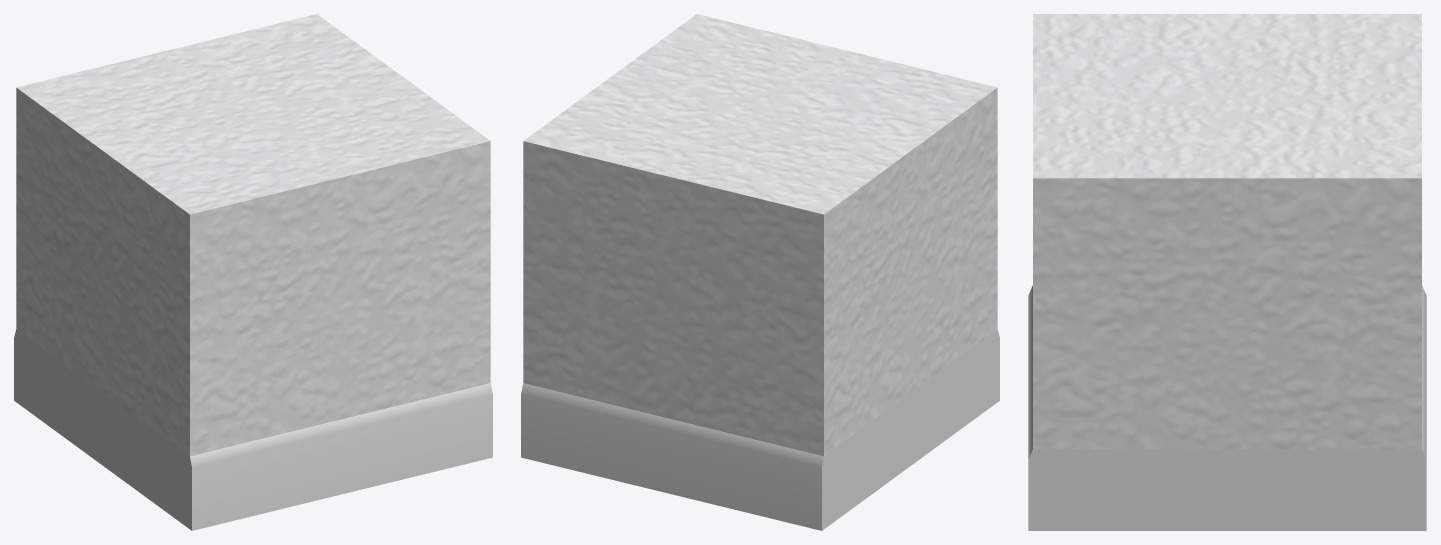
The model's file is scene_wall_plain_1.fbx.
3 renders of one model, left to right at view 1: azimuth 30°, elevation 25°; view 2: azimuth 150°, elevation 25°; view 3: azimuth 270°, elevation 25°, orthographic. The views are drawn at different scales.
Parts seen in each view (by area): view 1: mesh_wall_plain_1; view 2: mesh_wall_plain_1; view 3: mesh_wall_plain_1.
Boxes of the visible parts, x1=… form: mesh_wall_plain_1: x1=14, y1=14, x2=492, y2=530; mesh_wall_plain_1: x1=521, y1=14, x2=999, y2=530; mesh_wall_plain_1: x1=1028, y1=14, x2=1426, y2=530.
Size of the model in its own units: 1 by 1 by 1.02.
Materials: 1 (1 with a texture image).
